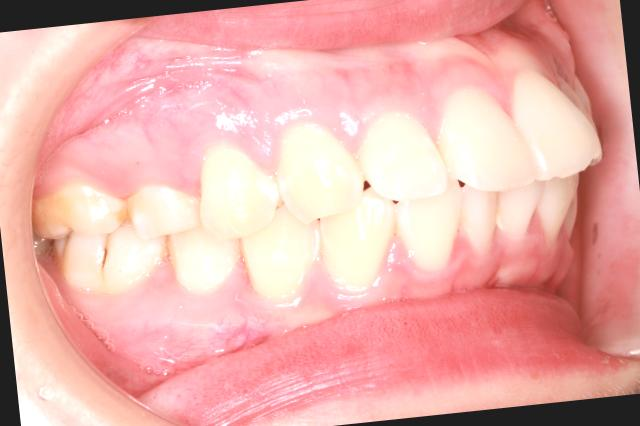canine class I: (230, 114, 404, 322)
molar class III 1/2: (31, 173, 170, 308)
